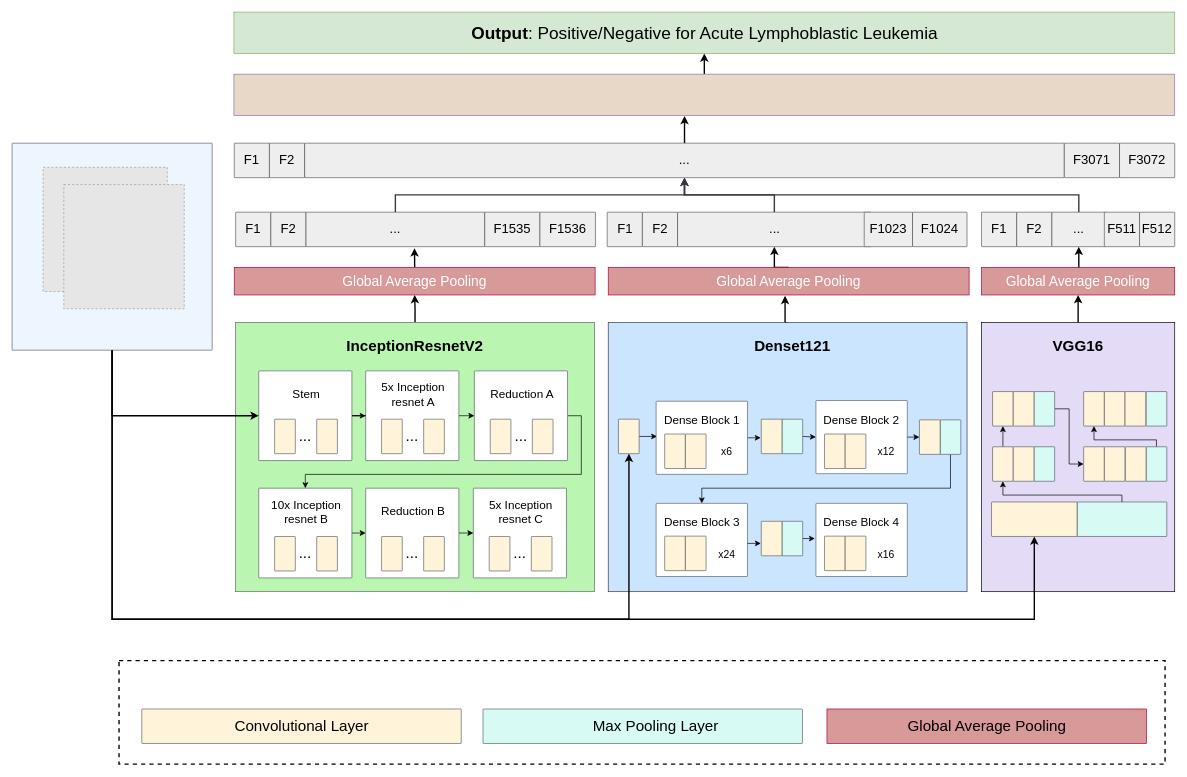
Some shapes in this 1187 by 777 pixel diagram are drawn without their labels. Grey dashed boxes stand in for pictures. The box of each missing label's shape, as (x1, y1, x2, y2) in pixels:
Input Data: (49, 314, 174, 346)
LEGEND: (118, 660, 1165, 765)
Support Vector Machine Classifier: (233, 73, 1175, 116)
